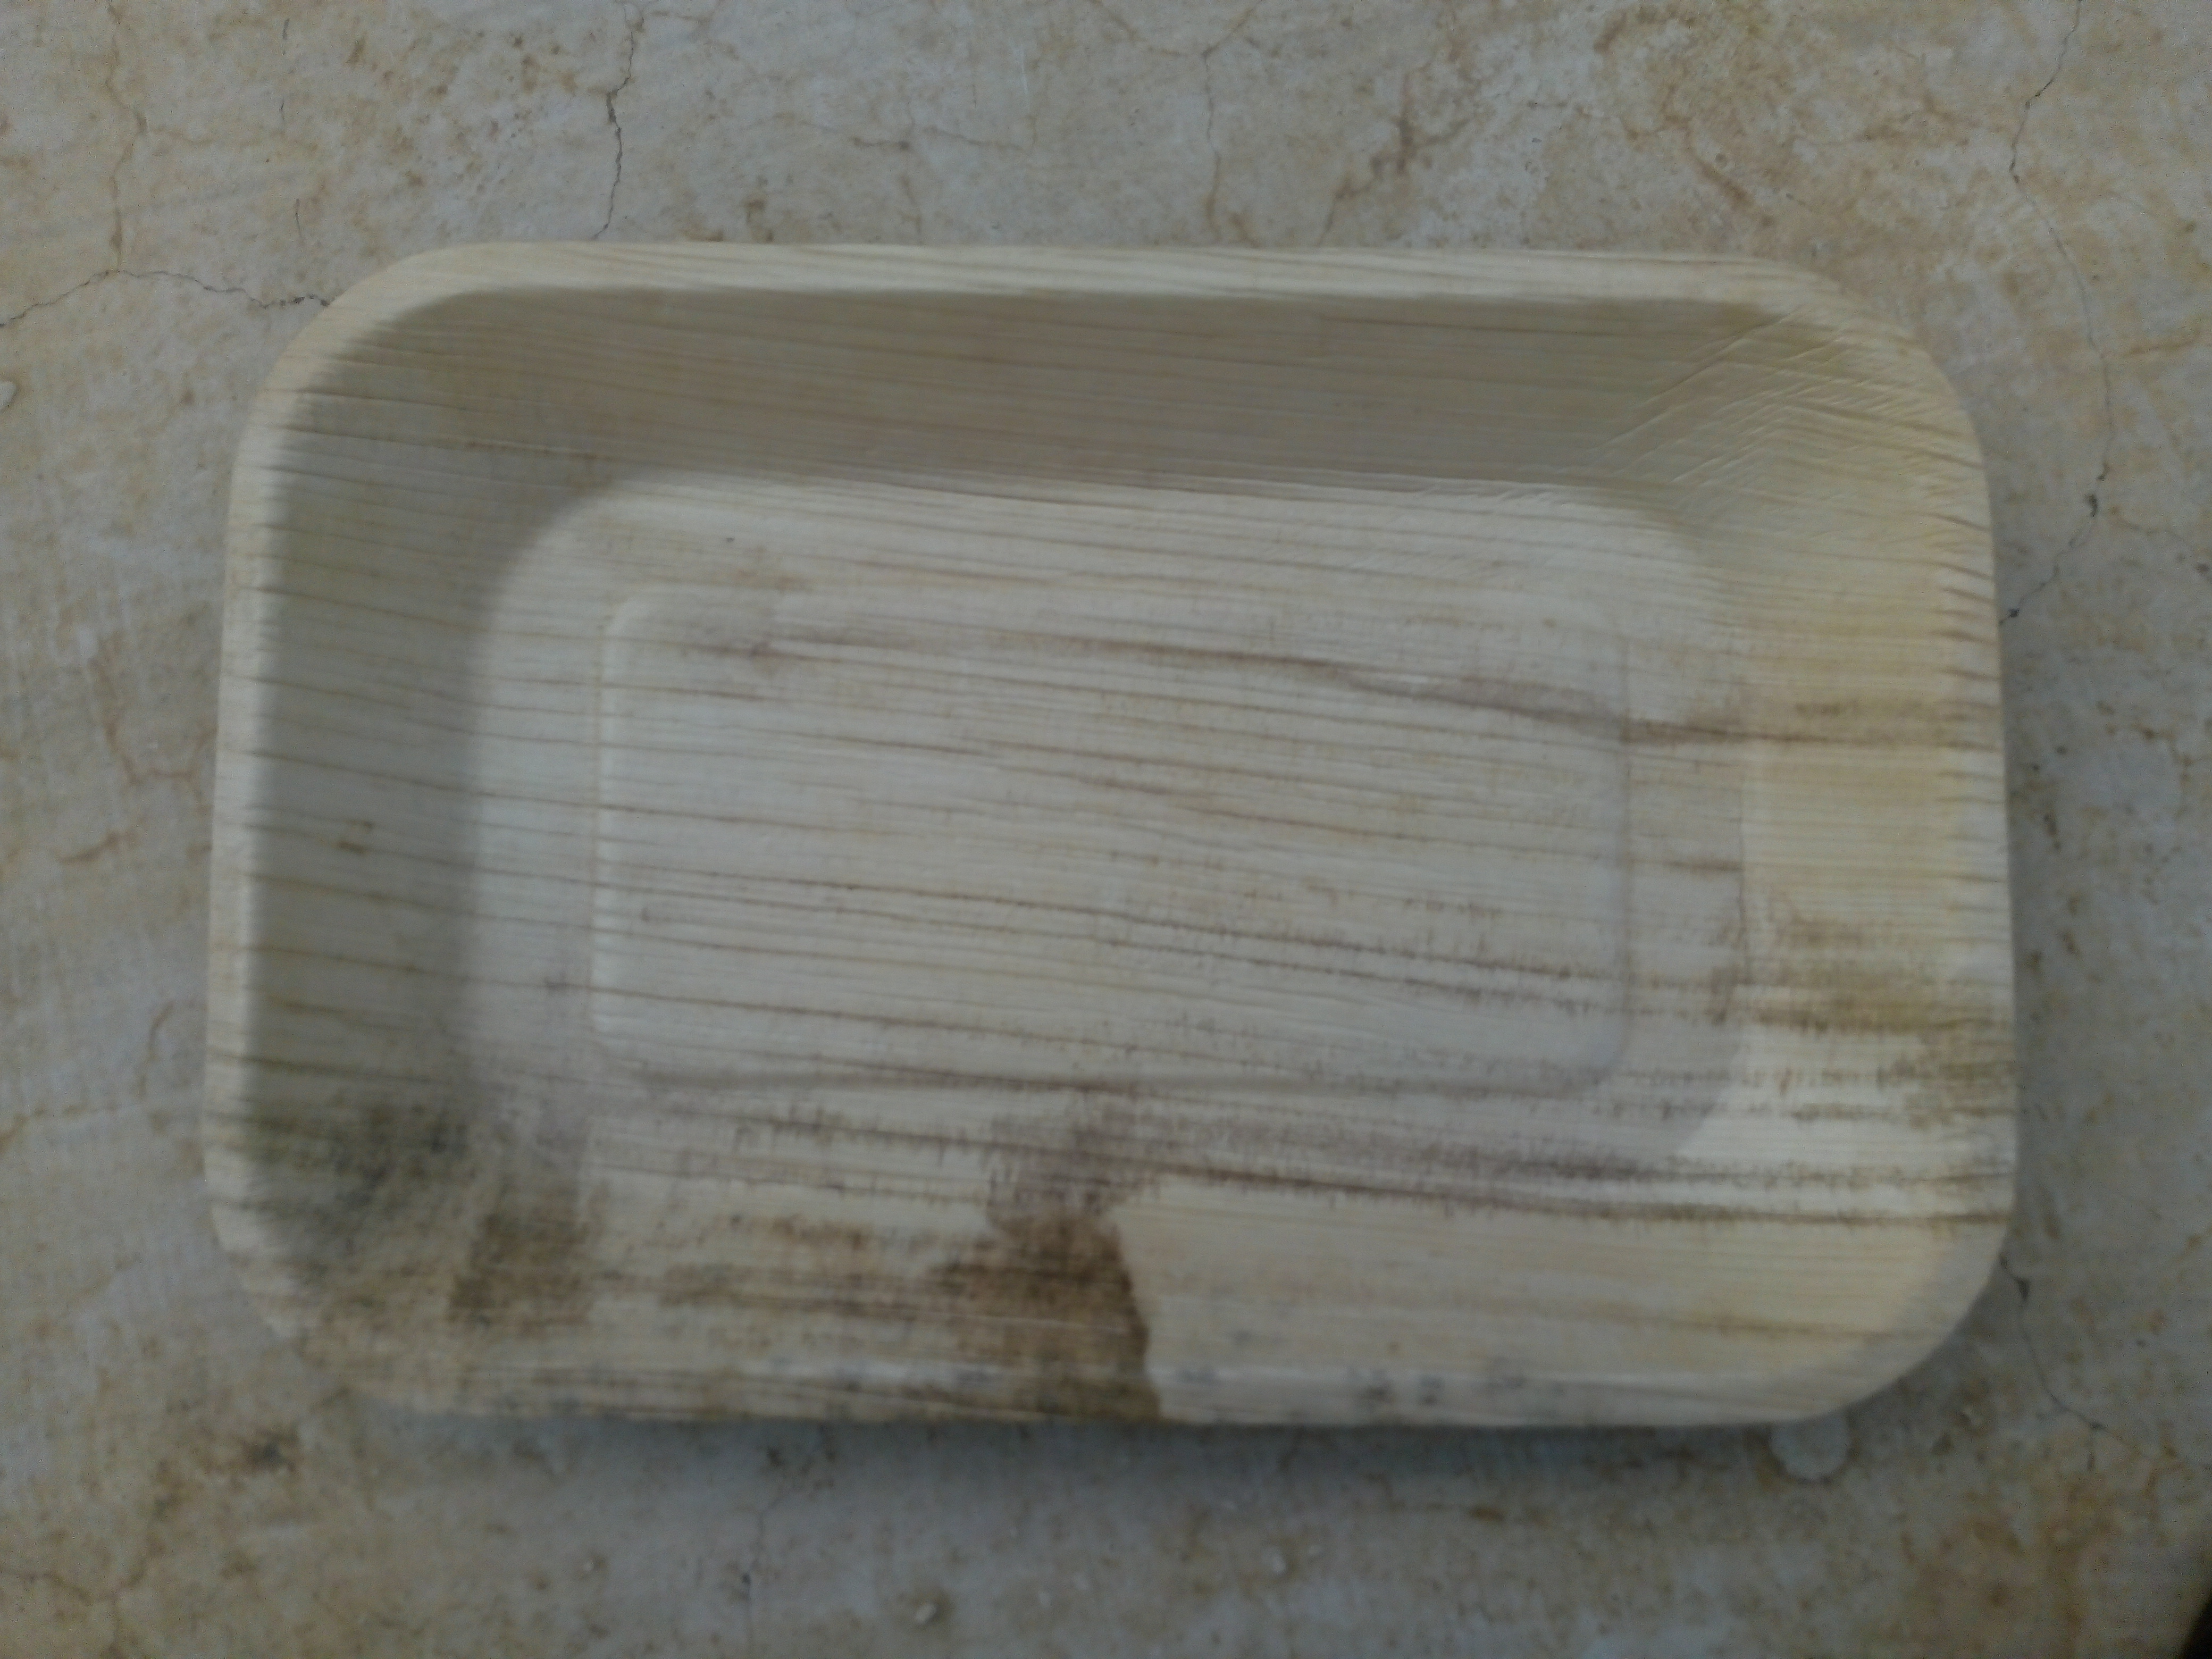areca plate: (218, 199, 2026, 1412)
